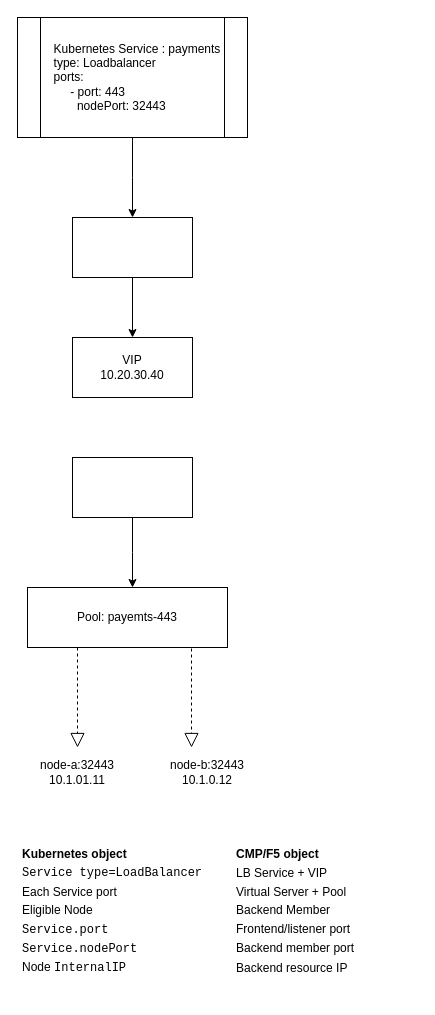
Image size: 435x1015. Some labels were removed from this diagram. The centre of each missing label's shape, as x and y in pixels:
CMP LB Service payments-prod: point 132,247
Virtual Server 10.20.30.40:443/TCP: point 132,487
